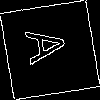A: (24, 24, 77, 66)
